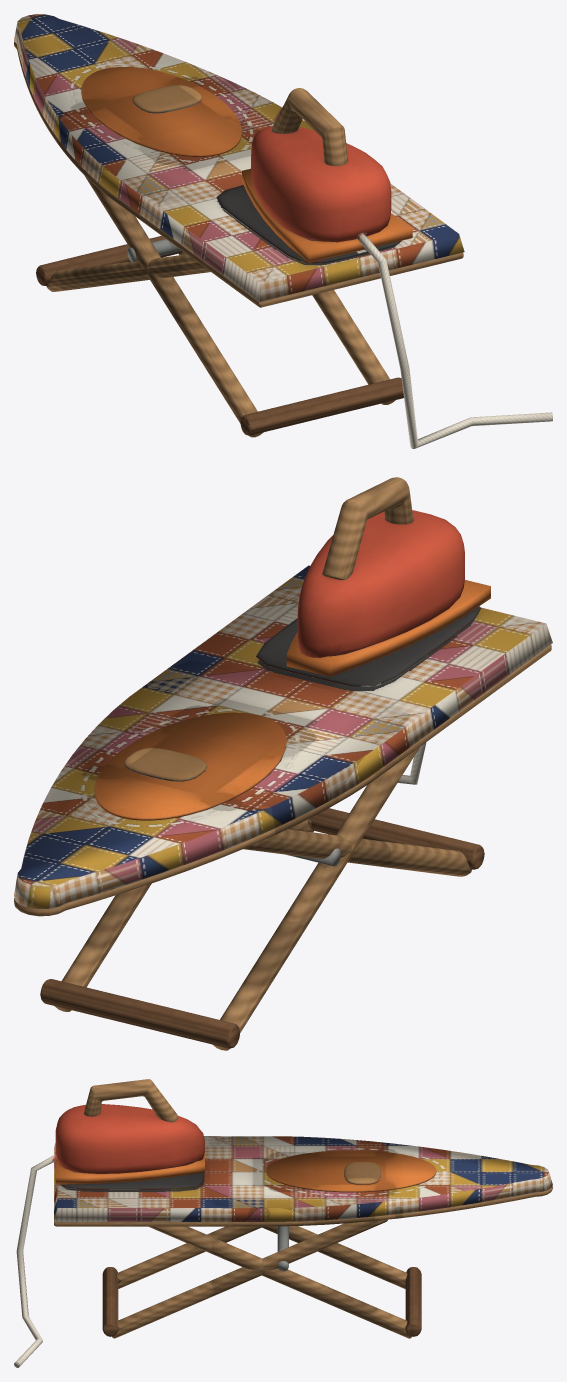
The model's file is giant_press_board.glb.
3 renders of one model, top to bottom at view 1: azimuth 30°, elevation 25°; view 2: azimuth 150°, elevation 25°; view 3: azimuth 270°, elevation 25°, orthographic. The views are drawn at different scales.
Parts seen in each view (by area): view 1: prop_giant_press_board_felt, prop_giant_press_board_wood, prop_giant_press_board_felt_heat; view 2: prop_giant_press_board_felt, prop_giant_press_board_wood, prop_giant_press_board_felt_heat; view 3: prop_giant_press_board_felt, prop_giant_press_board_wood, prop_giant_press_board_felt_heat.
Part boxes in pixels (x1=…): prop_giant_press_board_felt: x1=14, y1=14, x2=552, y2=448; prop_giant_press_board_wood: x1=14, y1=41, x2=463, y2=437; prop_giant_press_board_felt_heat: x1=81, y1=67, x2=412, y2=262; prop_giant_press_board_felt: x1=14, y1=510, x2=552, y2=908; prop_giant_press_board_wood: x1=14, y1=477, x2=551, y2=1050; prop_giant_press_board_felt_heat: x1=94, y1=580, x2=490, y2=820; prop_giant_press_board_felt: x1=14, y1=1104, x2=552, y2=1367; prop_giant_press_board_wood: x1=54, y1=1079, x2=552, y2=1338; prop_giant_press_board_felt_heat: x1=55, y1=1150, x2=436, y2=1192.
Size of the model in its own units: 1.63 by 1.82 by 3.81.
Materials: 3 (3 with a texture image).
